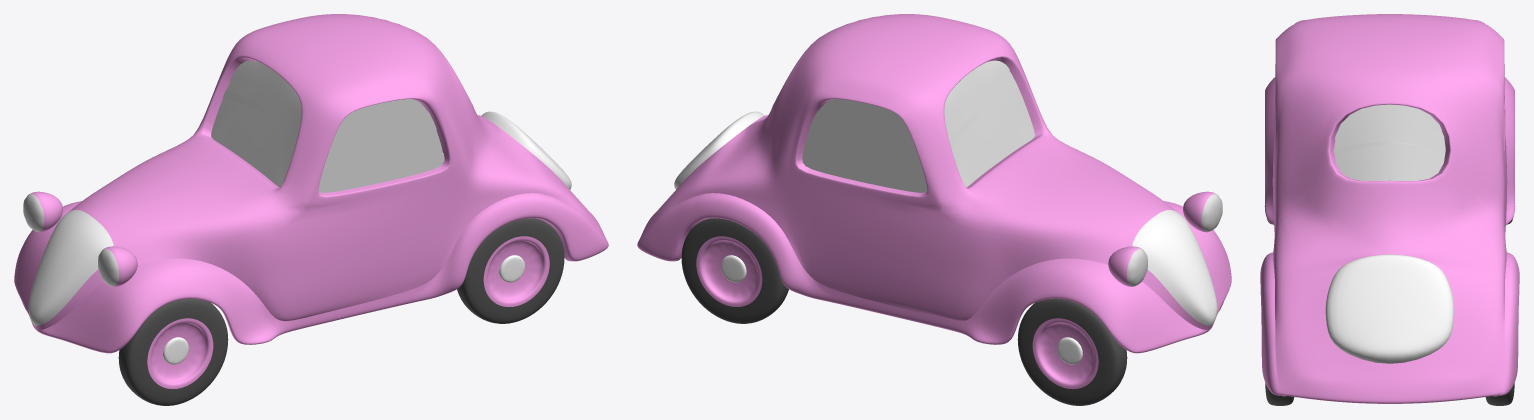
Rendered from topolino1936.fbx.
3 views of the same model, side by side, from view 1: azimuth 30°, elevation 25°; view 2: azimuth 150°, elevation 25°; view 3: azimuth 270°, elevation 25° (orthographic). The views are drawn at different scales.
Parts seen in each view (by area): view 1: Plane.002, Circle.003, Plane.003; view 2: Plane.002, Circle.003, Plane.003; view 3: Plane.002, Plane.003, Circle.003.
Part boxes in pixels (left/top/right/bottom): Plane.002: left=14, top=14, right=608, bottom=353; Circle.003: left=22, top=218, right=564, bottom=405; Plane.003: left=222, top=60, right=444, bottom=161; Plane.002: left=637, top=14, right=1231, bottom=353; Circle.003: left=681, top=218, right=1223, bottom=405; Plane.003: left=809, top=60, right=1009, bottom=153; Plane.002: left=1260, top=14, right=1519, bottom=403; Plane.003: left=1333, top=104, right=1441, bottom=153; Circle.003: left=1265, top=218, right=1514, bottom=405.
Size of the model in its own units: 649 by 313 by 245.
